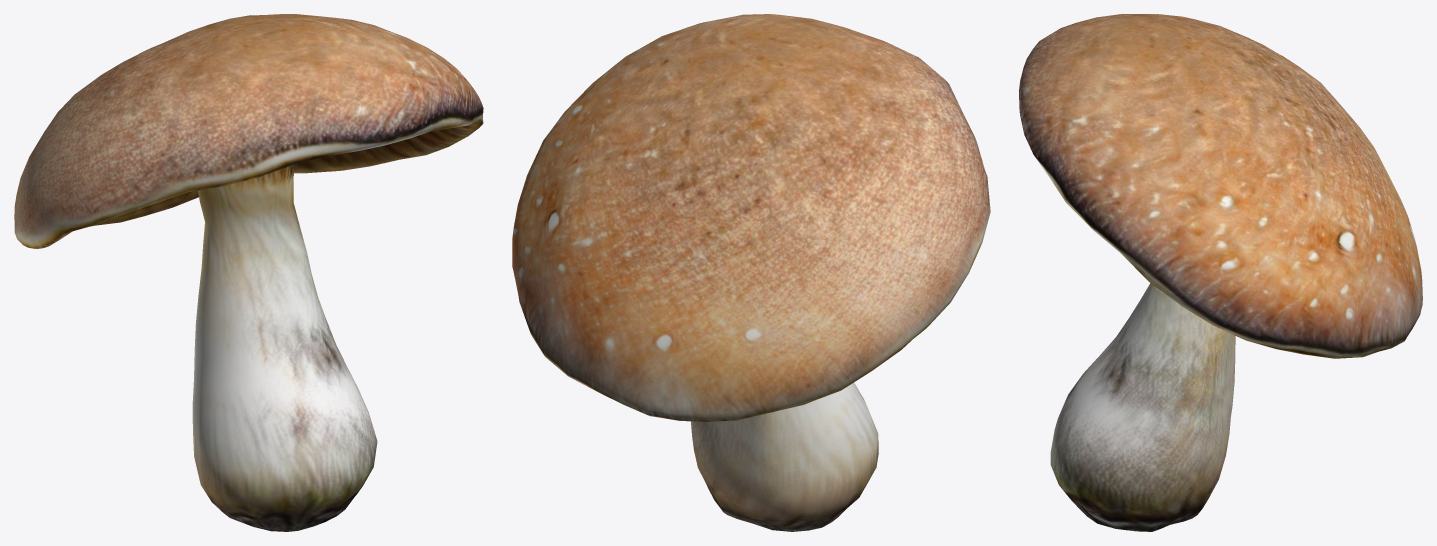
File: 17dd0182ae4c_a6c7079d8085_One_big_mushroom_mi.glb
3 views of the same model, side by side, from view 1: azimuth 30°, elevation 25°; view 2: azimuth 150°, elevation 25°; view 3: azimuth 270°, elevation 25° (orthographic).
Visible parts, largest first — view 1: mesh; view 2: mesh; view 3: mesh.
Part boxes in pixels (x1,y1,x2,y2): mesh: (14,14,483,531); mesh: (512,14,990,531); mesh: (1019,14,1422,531).
Size of the model in its own units: 0.9226 by 0.9989 by 0.7733.
Materials: 1 (1 with a texture image).
